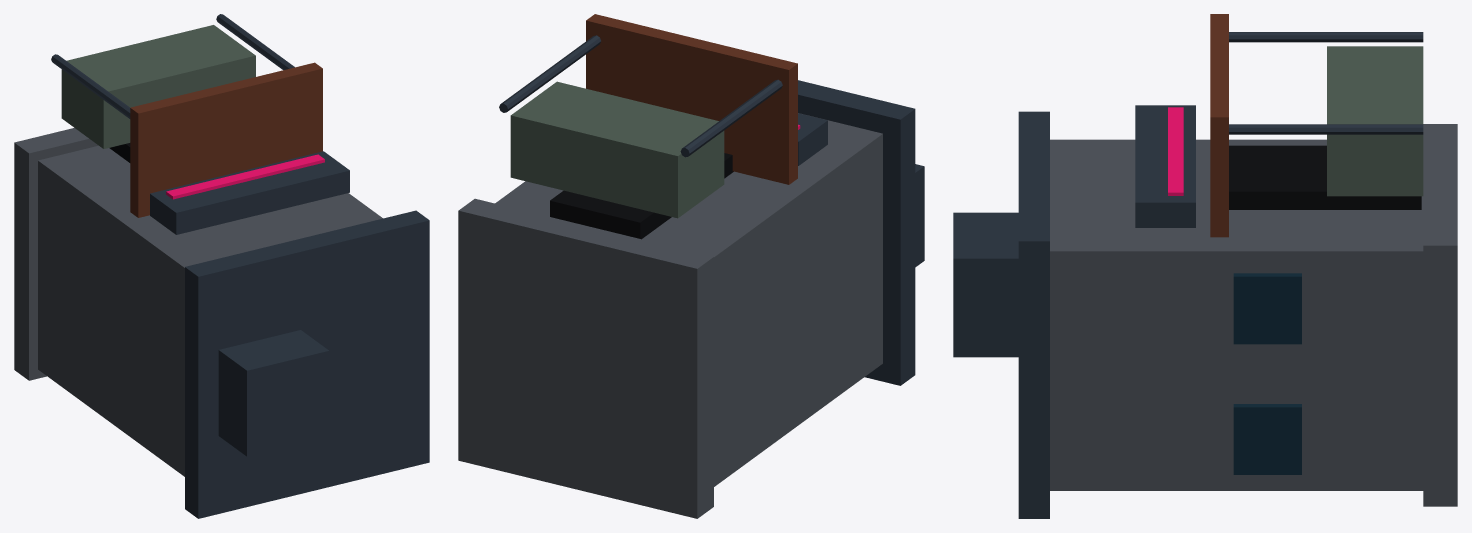
The model's file is ENV_building_ramen.obj.
The picture shows the model from 3 angles, left to right: view 1: azimuth 30°, elevation 25°; view 2: azimuth 150°, elevation 25°; view 3: azimuth 270°, elevation 25°; orthographic projection. The views are drawn at different scales.
Visible parts, largest first — view 1: ENV_building_ramen; view 2: ENV_building_ramen; view 3: ENV_building_ramen.
Part boxes in pixels (x1,y1,x2,y2): ENV_building_ramen: [14, 14, 429, 518]; ENV_building_ramen: [458, 14, 924, 518]; ENV_building_ramen: [953, 14, 1457, 518].
Bounding box in the file's own units: 1.97 × 2.75 × 3.24.
